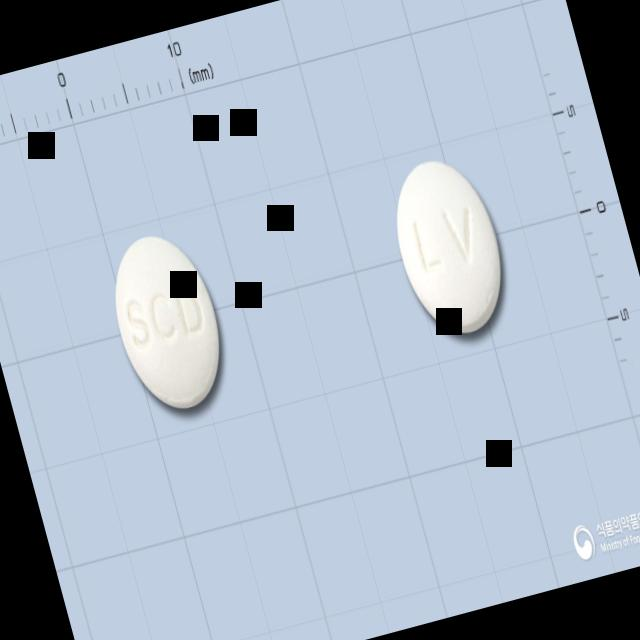Clad: (97, 222, 238, 420), (378, 144, 518, 343)
